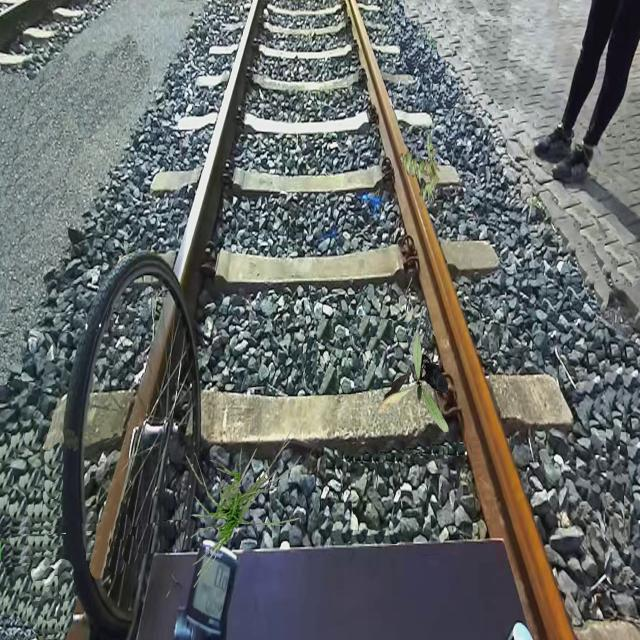Plant: (183, 424, 302, 588), (377, 333, 448, 432), (399, 132, 441, 203)
